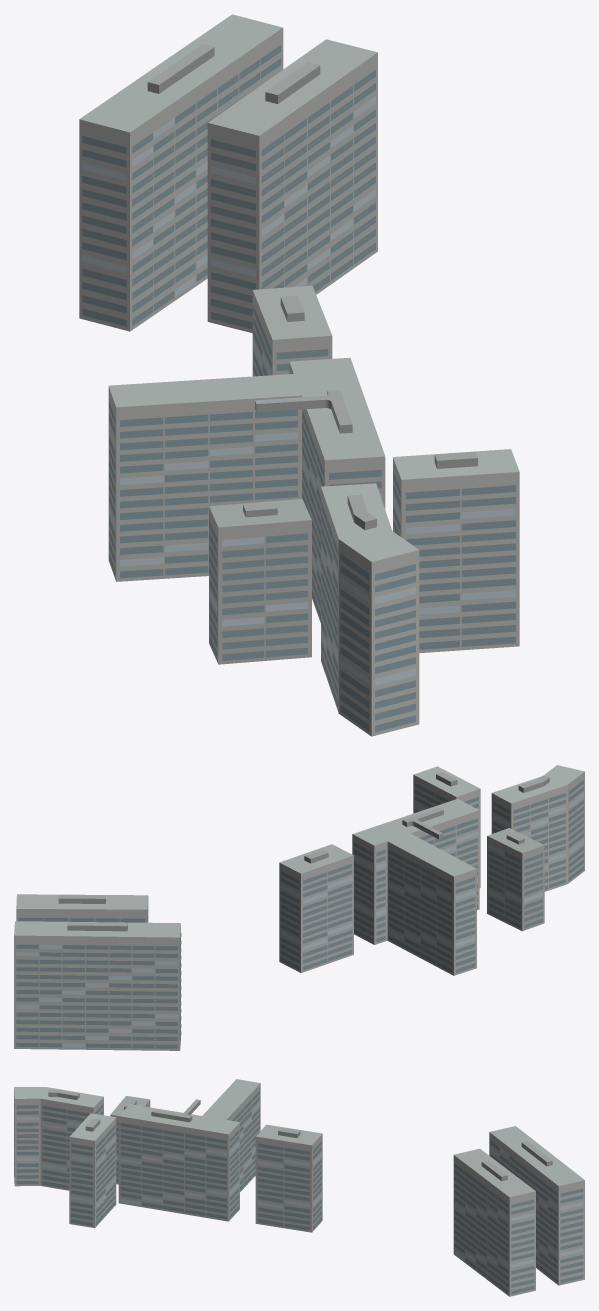
Rendered from apt-a15721004.glb.
3 views of the same model, one above another, from view 1: azimuth 30°, elevation 25°; view 2: azimuth 150°, elevation 25°; view 3: azimuth 270°, elevation 25° (orthographic). The views are drawn at different scales.
Visible parts, largest first — view 1: apt-a15721004; view 2: apt-a15721004; view 3: apt-a15721004.
Boxes of the visible parts, left/top/right/bottom form: apt-a15721004: left=79, top=14, right=519, bottom=736; apt-a15721004: left=14, top=765, right=584, bottom=1050; apt-a15721004: left=14, top=1079, right=584, bottom=1296.
Size of the model in its own units: 131 by 47.81 by 238.
